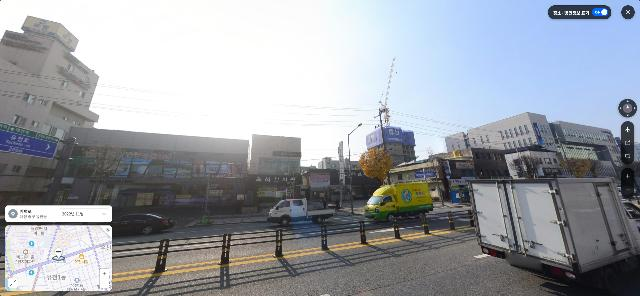ginkgo: (358, 148, 394, 186)
other: (77, 139, 143, 213), (185, 162, 236, 215), (417, 148, 448, 206), (508, 157, 556, 179), (281, 159, 303, 198), (557, 157, 596, 178), (602, 159, 625, 183)
